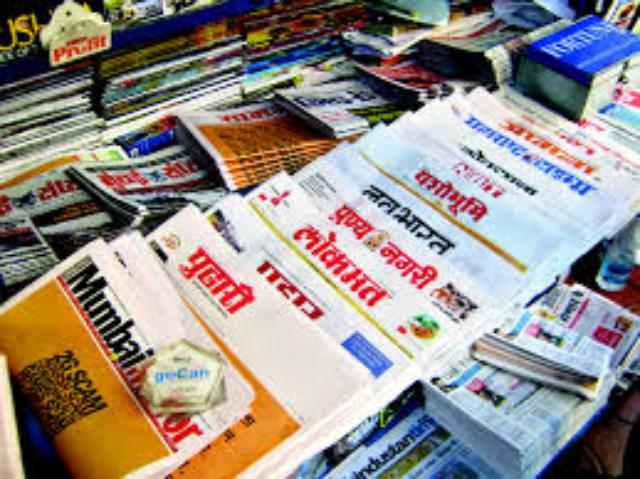cardboard paper: (0, 86, 635, 472), (445, 326, 566, 403), (408, 437, 474, 469), (484, 432, 534, 452)
